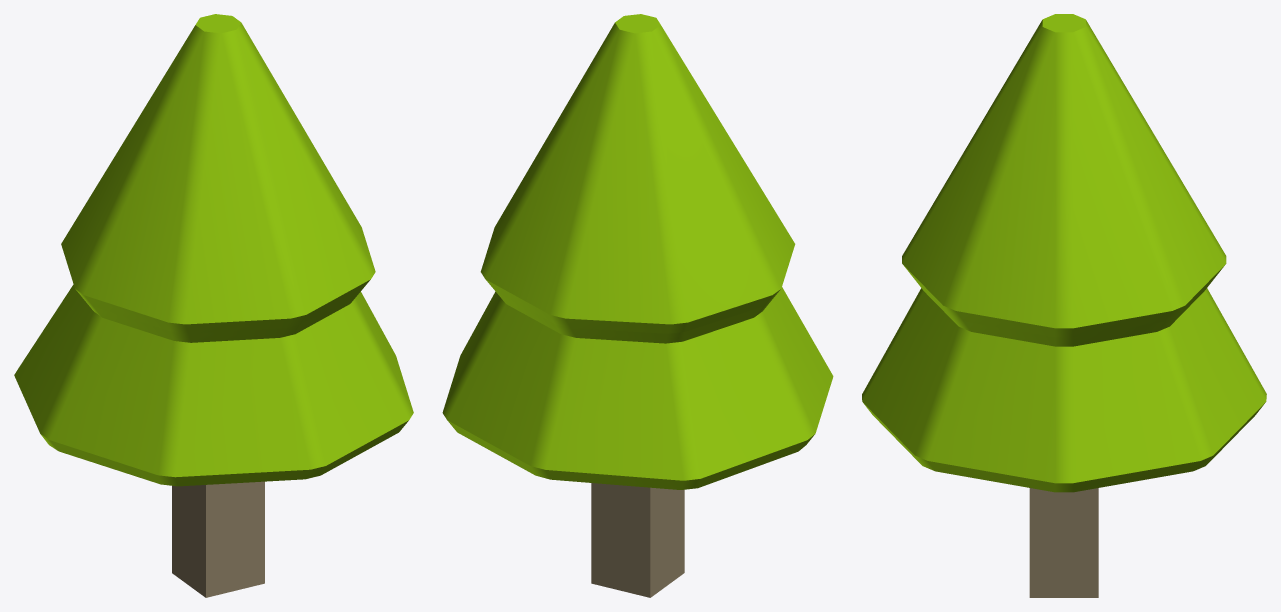
The model's file is pine_7_bevel.fbx.
The picture shows the model from 3 angles, left to right: view 1: azimuth 30°, elevation 25°; view 2: azimuth 150°, elevation 25°; view 3: azimuth 270°, elevation 25°; orthographic projection.
Parts seen in each view (by area): view 1: pine_7_bevel; view 2: pine_7_bevel; view 3: pine_7_bevel.
Boxes of the visible parts, <box> form: pine_7_bevel: <box>14,14,413,597</box>; pine_7_bevel: <box>442,14,833,597</box>; pine_7_bevel: <box>862,14,1266,597</box>.
Bounding box in the file's own units: 71.01 × 108 × 71.
